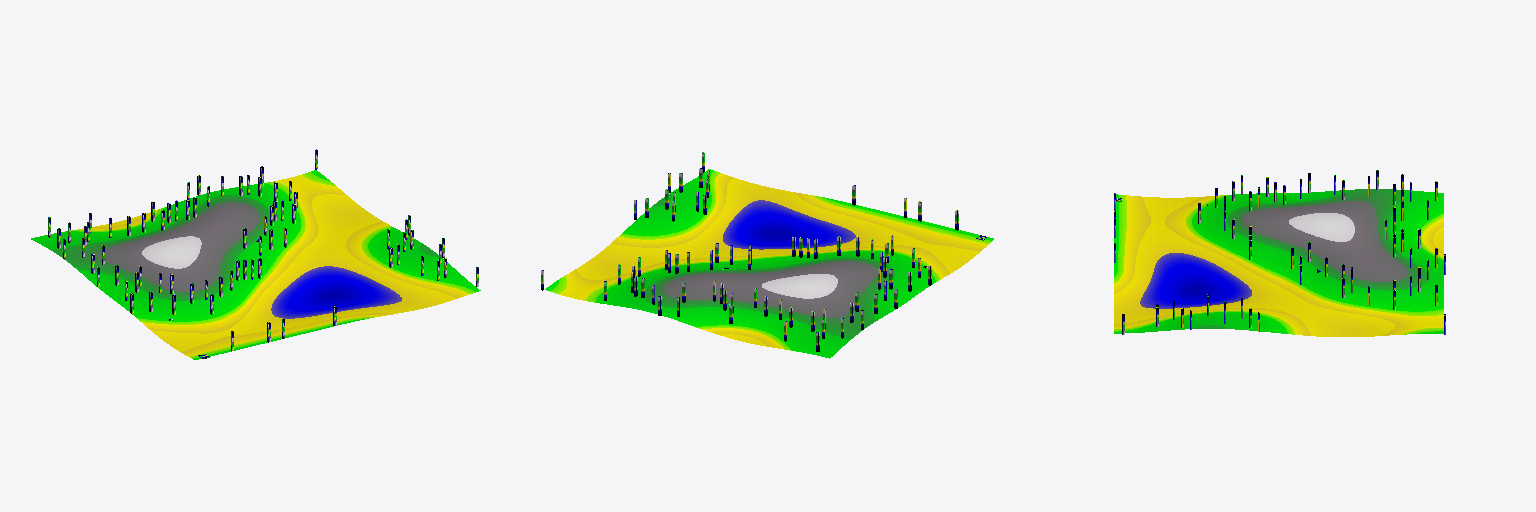
3 renders of one model, left to right at view 1: azimuth 30°, elevation 25°; view 2: azimuth 150°, elevation 25°; view 3: azimuth 270°, elevation 25°, orthographic.
Size of the model in its own units: 39.3 by 4.41 by 39.3.
Materials: 1 (1 with a texture image).